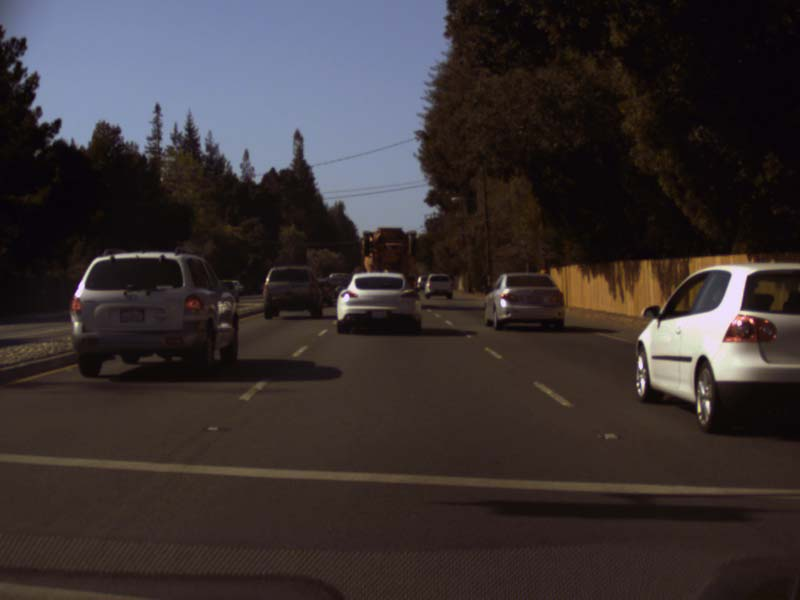Yellow: (367, 233, 373, 242)
